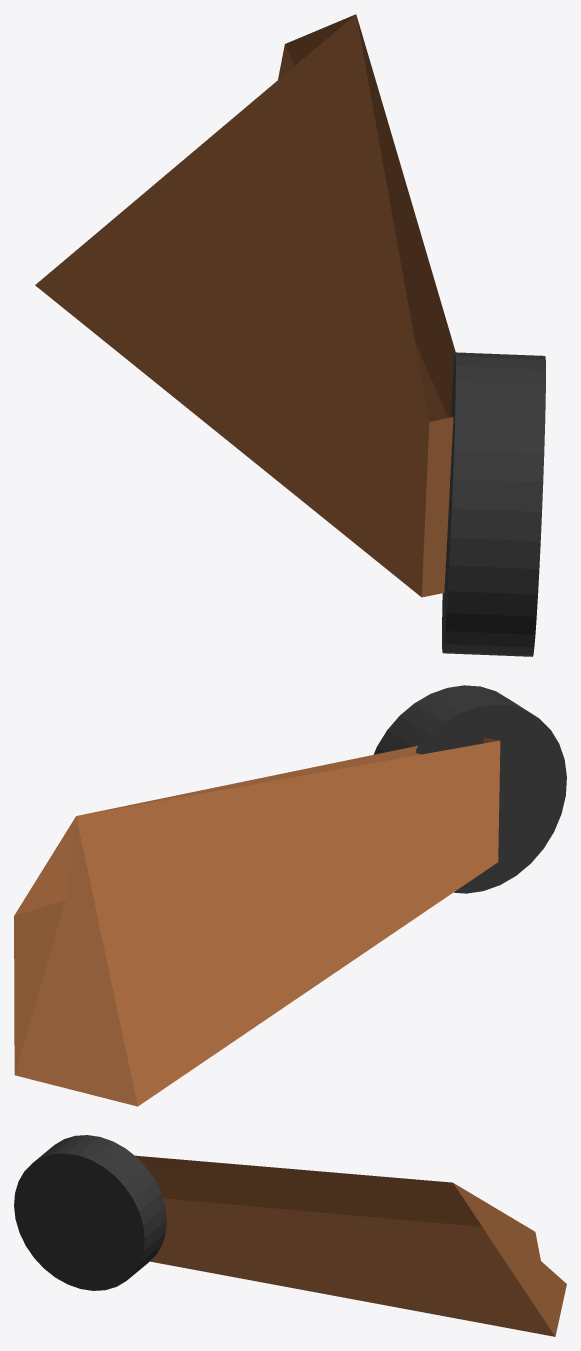
File: Rad.fbx
The picture shows the model from 3 angles, top to bottom: view 1: azimuth 30°, elevation 25°; view 2: azimuth 150°, elevation 25°; view 3: azimuth 270°, elevation 25°; orthographic projection. The views are drawn at different scales.
Parts seen in each view (by area): view 1: rad2; view 2: rad2; view 3: rad2.
Boxes of the visible parts, x1,y1,x2,y2 form: rad2: (35,14,545,656); rad2: (14,685,566,1106); rad2: (14,1135,566,1336).
Size of the model in its own units: 32.54 by 29.11 by 93.09.
